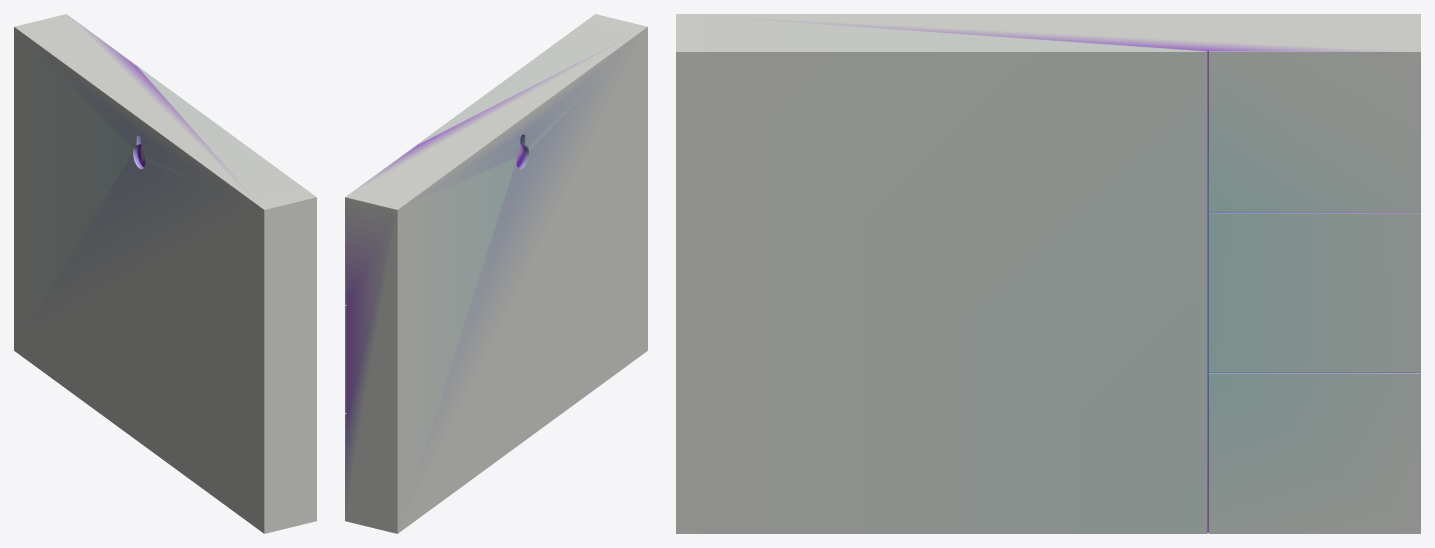
Rendered from simready-socket_b01.glb.
The picture shows the model from 3 angles, left to right: view 1: azimuth 30°, elevation 25°; view 2: azimuth 150°, elevation 25°; view 3: azimuth 270°, elevation 25°; orthographic projection. The views are drawn at different scales.
Visible parts, largest first — view 1: cabinet; view 2: cabinet; view 3: cabinet.
Part boxes in pixels (bbox=[...]): cabinet: bbox=[14, 14, 316, 533]; cabinet: bbox=[345, 14, 647, 533]; cabinet: bbox=[676, 14, 1420, 533].
Bounding box in the file's own units: 0.0169 × 0.1 × 0.14.
